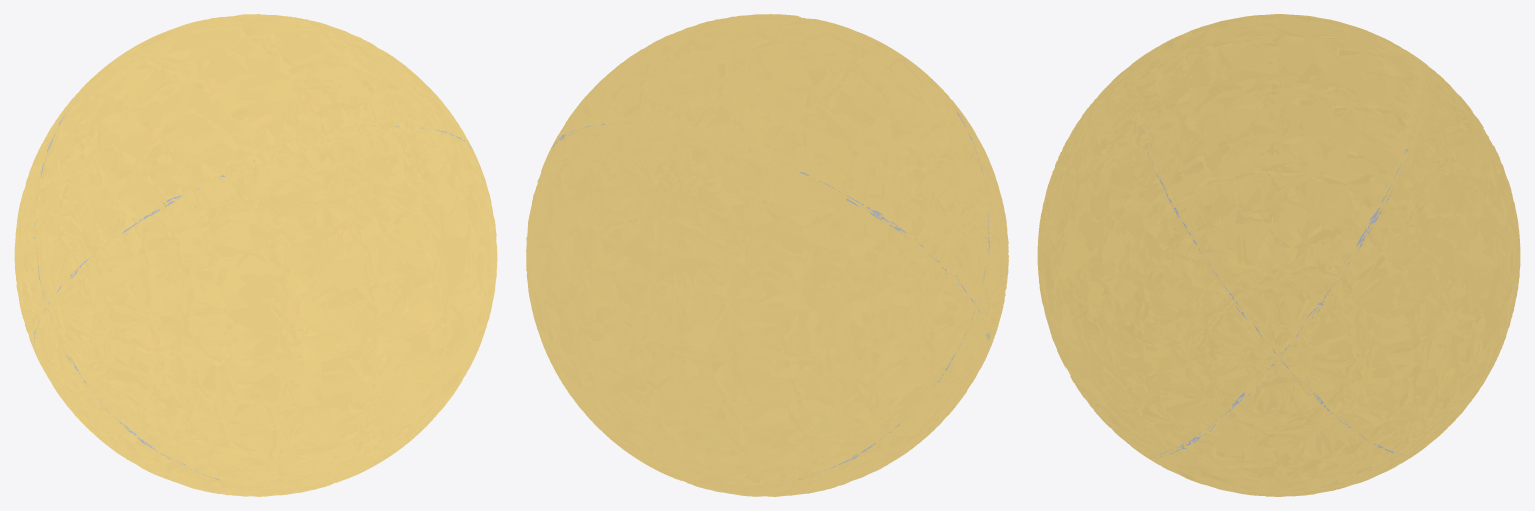
Rendered from dg-south-B.glb.
3 views of the same model, side by side, from view 1: azimuth 30°, elevation 25°; view 2: azimuth 150°, elevation 25°; view 3: azimuth 270°, elevation 25° (orthographic).
Parts seen in each view (by area): view 1: anodes, structure; view 2: anodes, structure; view 3: anodes, structure.
Part boxes in pixels (x1,y1,x2,y2): anodes: [14, 14, 497, 496]; structure: [33, 79, 470, 487]; anodes: [526, 14, 1008, 496]; structure: [551, 79, 989, 486]; anodes: [1037, 14, 1520, 496]; structure: [1133, 103, 1426, 458].
Size of the model in its own units: 2 by 2 by 2.
